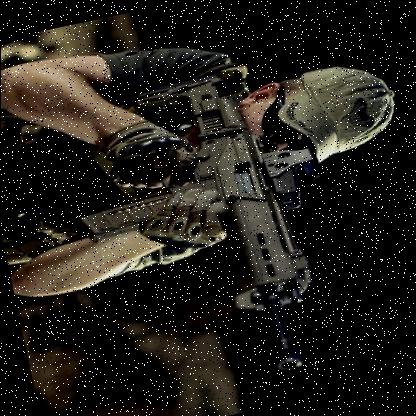rifle: (68, 59, 332, 407)
